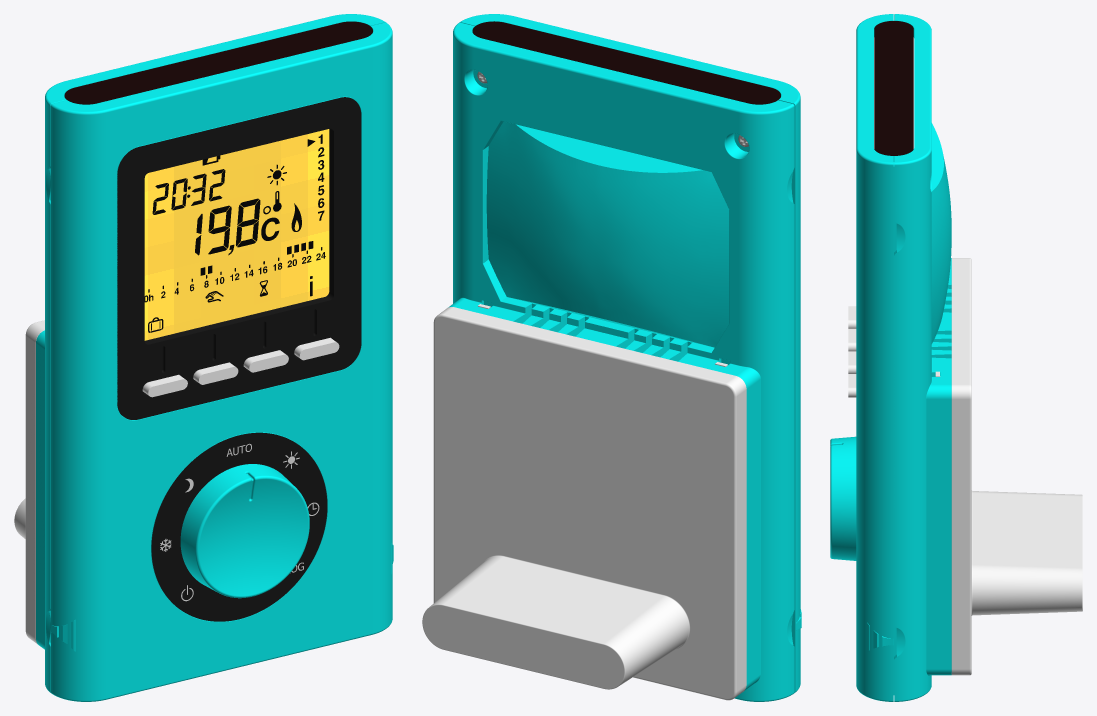
3 renders of one model, left to right at view 1: azimuth 30°, elevation 25°; view 2: azimuth 150°, elevation 25°; view 3: azimuth 270°, elevation 25°, orthographic. The views are drawn at different scales.
Visible parts, largest first — view 1: TTIR_obudowa, TTIR_ciemny_plastik, TTIR_lcd_tlo, TTIR_obudowa_emi, TTIR_lcd_symbols, TTIR_stopa, TTIR_przyciski; view 2: TTIR_obudowa, TTIR_stopa, TTIR_obudowa_emi; view 3: TTIR_obudowa, TTIR_stopa, TTIR_obudowa_emi, TTIR_przyciski.
Part boxes in pixels (x1,y1,x2,y2): TTIR_obudowa: (36, 14, 393, 701); TTIR_ciemny_plastik: (117, 97, 361, 621); TTIR_lcd_tlo: (144, 129, 329, 340); TTIR_obudowa_emi: (64, 21, 372, 461); TTIR_lcd_symbols: (144, 134, 325, 332); TTIR_stopa: (14, 320, 44, 644); TTIR_przyciski: (142, 337, 339, 397); TTIR_obudowa: (448, 14, 801, 701); TTIR_stopa: (422, 304, 746, 700); TTIR_obudowa_emi: (472, 21, 780, 104); TTIR_obudowa: (830, 14, 951, 701); TTIR_stopa: (935, 258, 1082, 675); TTIR_obudowa_emi: (874, 21, 913, 155); TTIR_przyciski: (848, 306, 856, 397).
Size of the model in its own units: 8 by 13.4 by 5.68.
10 materials, 10 textured.
